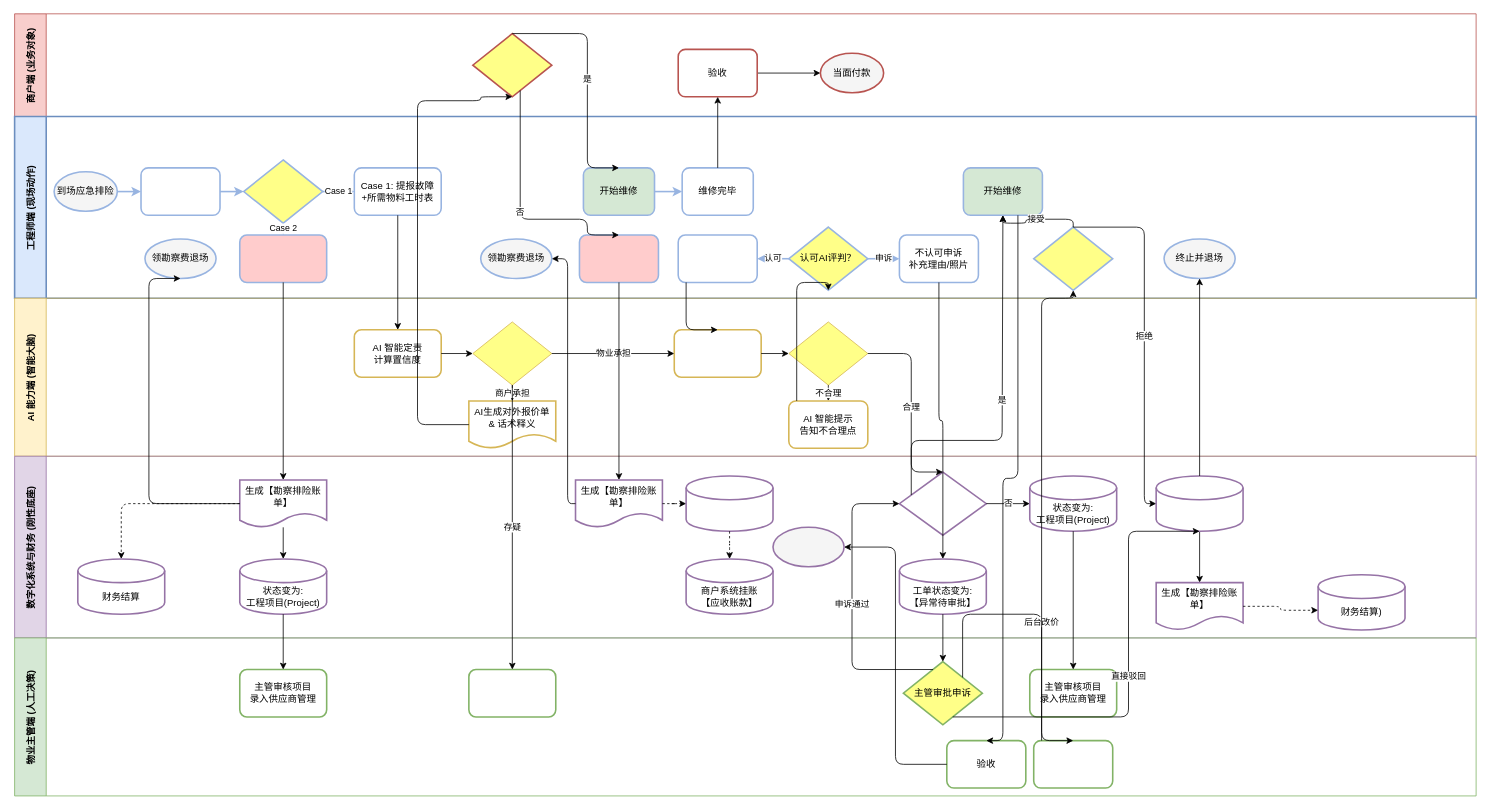
Some shapes in this 1490 by 810 pixel diagram are drawn without their labels. The centre of each missing label's shape, as x and y in pixels:
"AI 辅助评判 工程师报价" belongs at (717,353).
"Case 2: 超出能力 申请委外大项" belongs at (283,258).
"fukuan" belongs at (808,546).
"人工介入 定责判定分摊" belongs at (512,692).
"修正BOM/改价" belongs at (717,258).
"同意协商新价?" belongs at (1073,258).
"商户拒修 仅排险离场" belongs at (618,258).
"处理能力判断" belongs at (283,191).
"定责结果" belongs at (512,353).
"工单流转挂起: 【报价驳回】" belongs at (1199,503).
"排险完成" belongs at (180,191).
"改价/电话协商" belongs at (1073,763).
"是否合理？" belongs at (828,353).
"是否同意并签字?" belongs at (512,64).
"财务垫付" belongs at (729,503).
"金额 < 2000? (系统校验规则)" belongs at (942,503).
